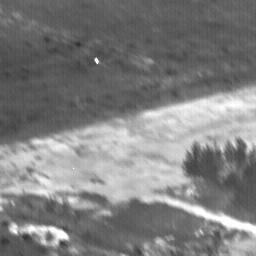aircraft: (96, 60, 98, 62)
